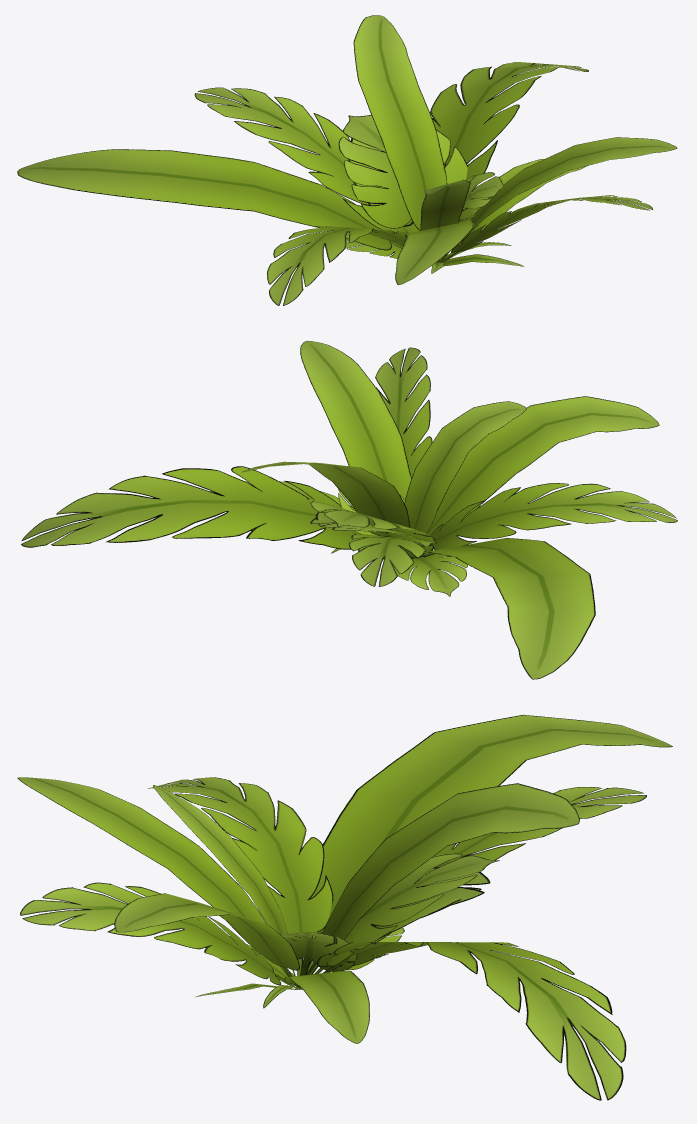
Rendered from Moonset_FBX_foliage_grand_01.fbx.
The picture shows the model from 3 angles, top to bottom: view 1: azimuth 30°, elevation 25°; view 2: azimuth 150°, elevation 25°; view 3: azimuth 270°, elevation 25°; orthographic projection. The views are drawn at different scales.
Visible parts, largest first — view 1: Foliage_grand_01; view 2: Foliage_grand_01; view 3: Foliage_grand_01.
Boxes of the visible parts, left/top/right/bottom form: Foliage_grand_01: left=17, top=15, right=677, bottom=305; Foliage_grand_01: left=21, top=340, right=677, bottom=679; Foliage_grand_01: left=17, top=714, right=672, bottom=1100.
Bounding box in the file's own units: 4.6 × 1.29 × 3.69.
